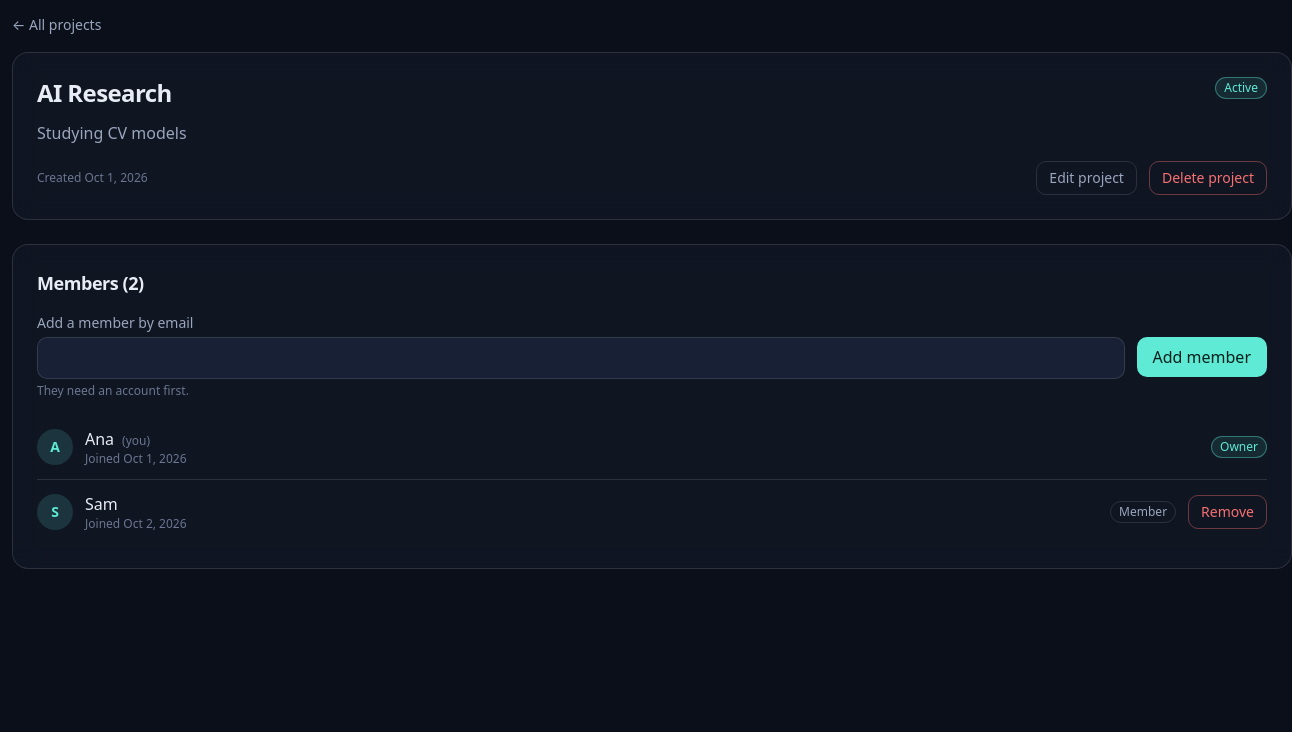
Test: owner actions › removes a member
expect the heading "AI Research" is shown: met, box left=37, top=77, right=172, bottom=109
What coordinates should you click on to do the following:
click the button with aria-label "Remove Sam"
I would click on:
 (1228, 512)
Its box is left=1188, top=495, right=1267, bottom=529.
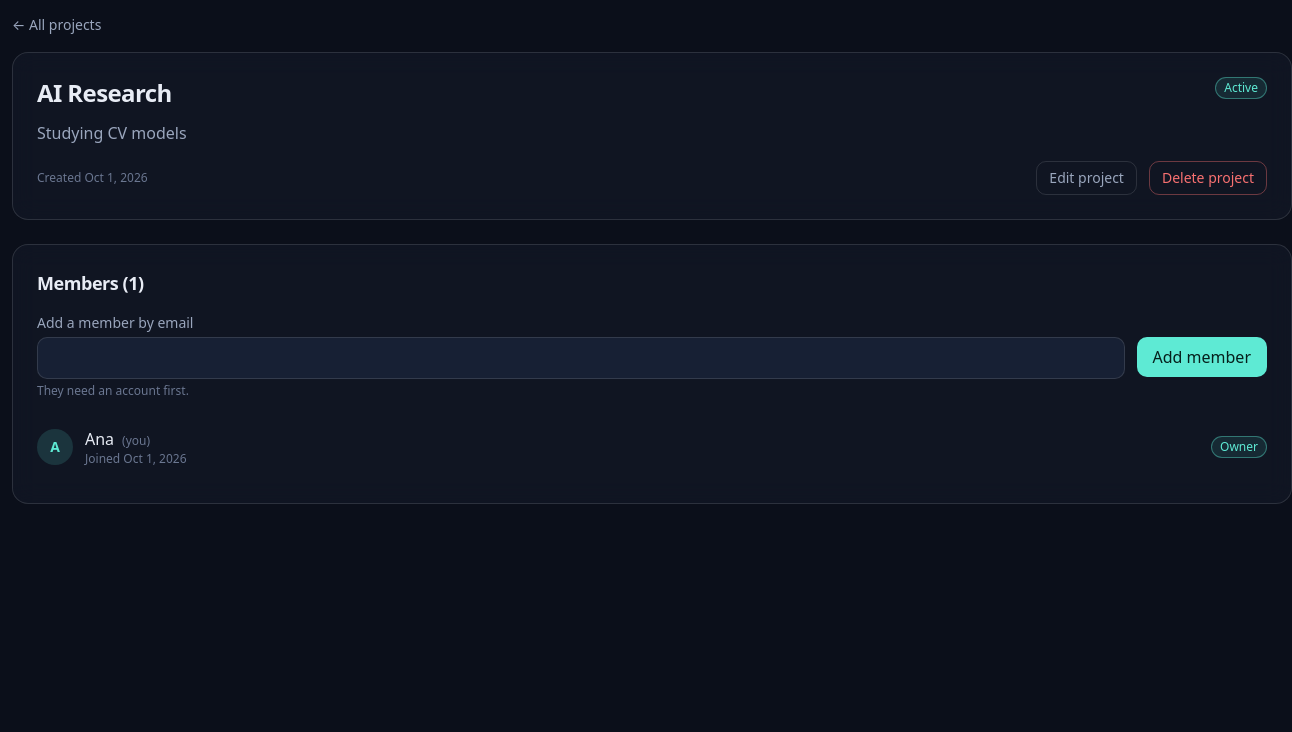
expect the heading "Members (1)" is shown: met, box left=37, top=271, right=144, bottom=295
expect the text "Sam" is gone: met
